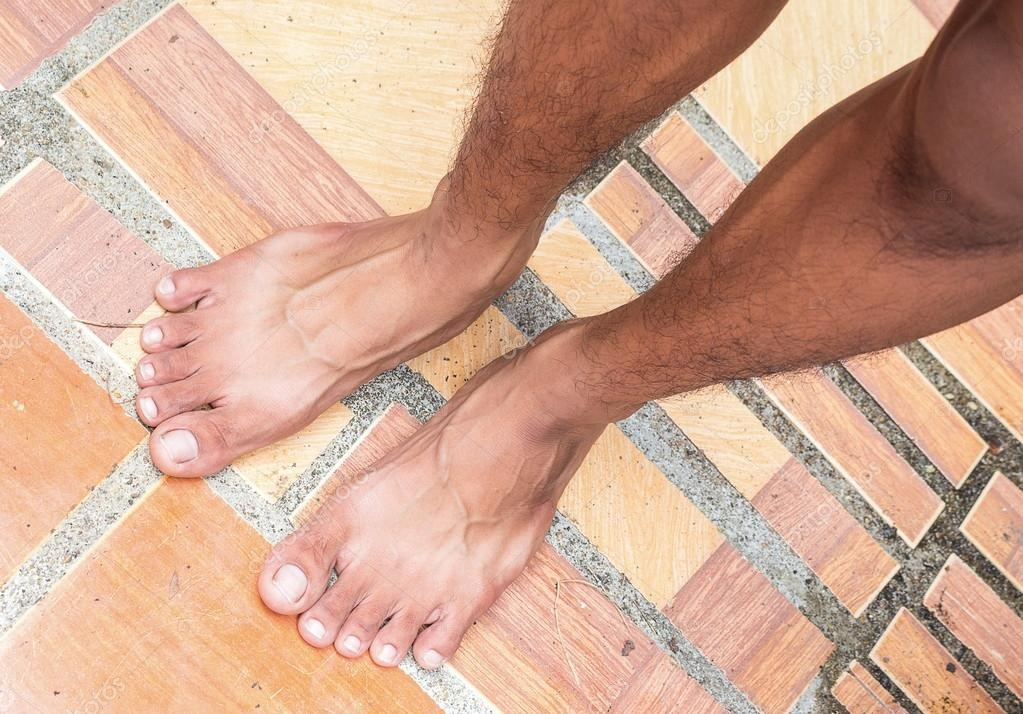feet: (119, 186, 585, 485), (226, 374, 620, 675)
